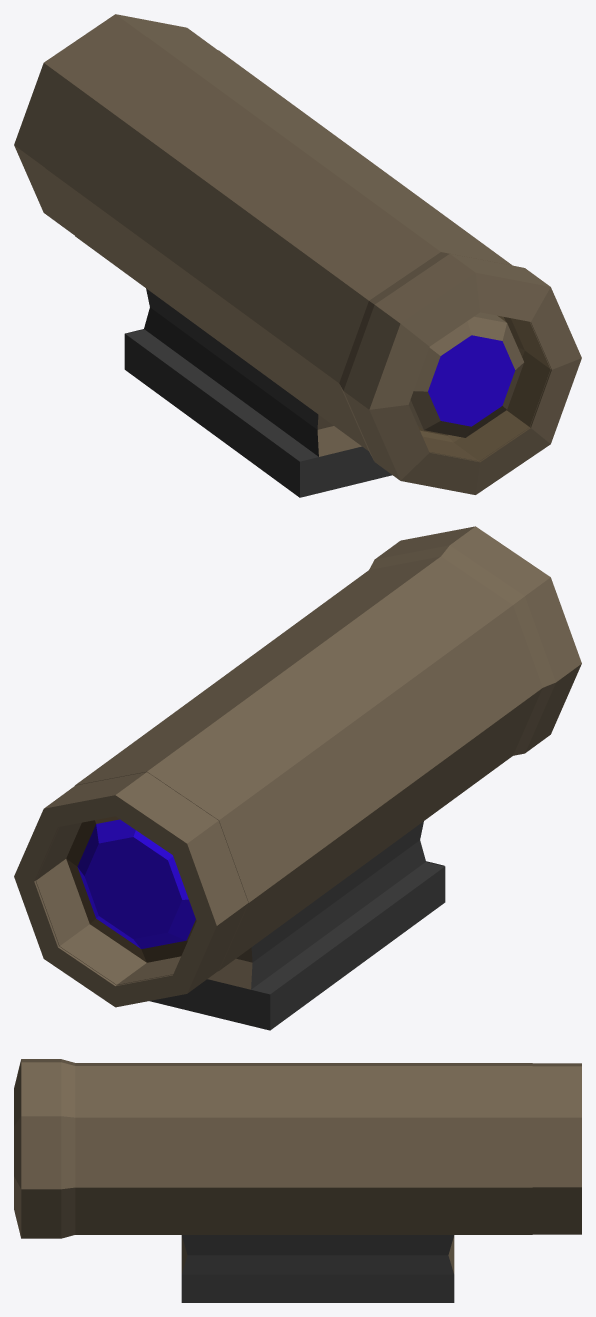
File: sniper.fbx
The picture shows the model from 3 angles, top to bottom: view 1: azimuth 30°, elevation 25°; view 2: azimuth 150°, elevation 25°; view 3: azimuth 270°, elevation 25°; orthographic projection. The views are drawn at different scales.
Parts seen in each view (by area): view 1: Circle; view 2: Circle; view 3: Circle.
Part boxes in pixels (x1,y1,x2,y2): Circle: (14,14,581,497); Circle: (14,526,581,1030); Circle: (14,1059,581,1302).
Size of the model in its own units: 209 by 266 by 621.
